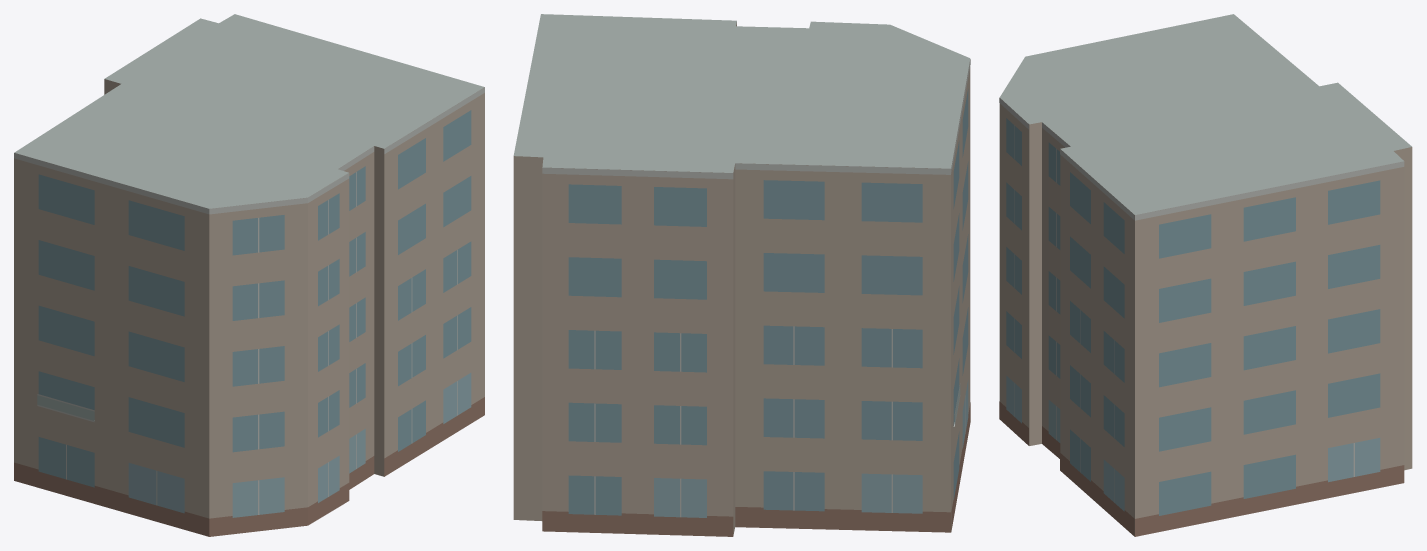
Rendered from survey-upis-32742695.glb.
3 views of the same model, side by side, from view 1: azimuth 30°, elevation 25°; view 2: azimuth 150°, elevation 25°; view 3: azimuth 270°, elevation 25° (orthographic). The views are drawn at different scales.
Parts seen in each view (by area): view 1: survey-upis-32742695.tmp; view 2: survey-upis-32742695.tmp; view 3: survey-upis-32742695.tmp.
Part boxes in pixels (<box>): survey-upis-32742695.tmp: <box>14,14,484,536</box>; survey-upis-32742695.tmp: <box>513,14,970,536</box>; survey-upis-32742695.tmp: <box>999,14,1412,536</box>.
Bounding box in the file's own units: 19.05 × 14.2 × 16.52.
